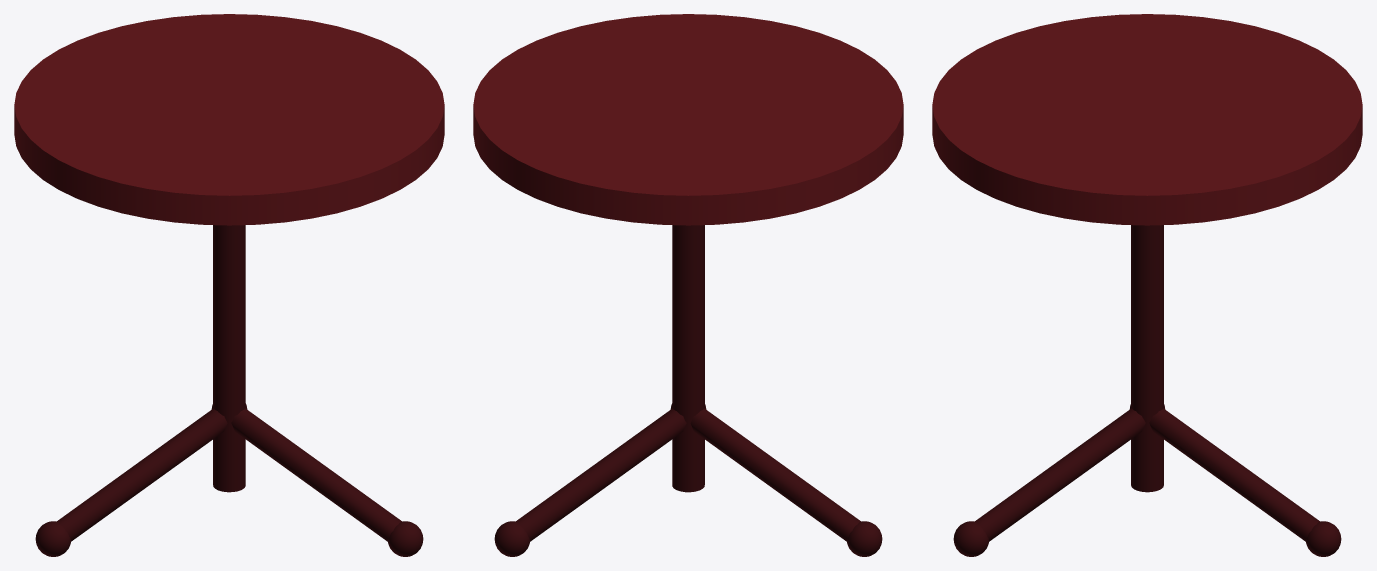
Rendered from red-tripod-side-table.glb.
3 views of the same model, side by side, from view 1: azimuth 30°, elevation 25°; view 2: azimuth 150°, elevation 25°; view 3: azimuth 270°, elevation 25° (orthographic).
Parts seen in each view (by area): view 1: round_table_top, central_stem, tripod_leg_2, tripod_leg_1, foot_1, foot_2; view 2: round_table_top, central_stem, tripod_leg_3, tripod_leg_1, foot_1, foot_3; view 3: round_table_top, central_stem, tripod_leg_2, tripod_leg_3, foot_2, foot_3.
Boxes of the visible parts, bbox=[...] form: round_table_top: bbox=[14, 14, 444, 225]; central_stem: bbox=[213, 225, 245, 492]; tripod_leg_2: bbox=[231, 408, 401, 541]; tripod_leg_1: bbox=[57, 408, 227, 541]; foot_1: bbox=[35, 521, 70, 556]; foot_2: bbox=[388, 521, 423, 556]; round_table_top: bbox=[473, 14, 903, 225]; central_stem: bbox=[672, 225, 704, 492]; tripod_leg_3: bbox=[516, 408, 686, 541]; tripod_leg_1: bbox=[690, 408, 860, 541]; foot_1: bbox=[847, 521, 882, 556]; foot_3: bbox=[494, 521, 529, 556]; round_table_top: bbox=[932, 14, 1362, 225]; central_stem: bbox=[1131, 225, 1163, 492]; tripod_leg_2: bbox=[975, 408, 1145, 541]; tripod_leg_3: bbox=[1149, 408, 1319, 541]; foot_2: bbox=[953, 521, 988, 556]; foot_3: bbox=[1306, 521, 1341, 556].
Bounding box in the file's own units: 0.73 × 0.7524 × 0.72.
